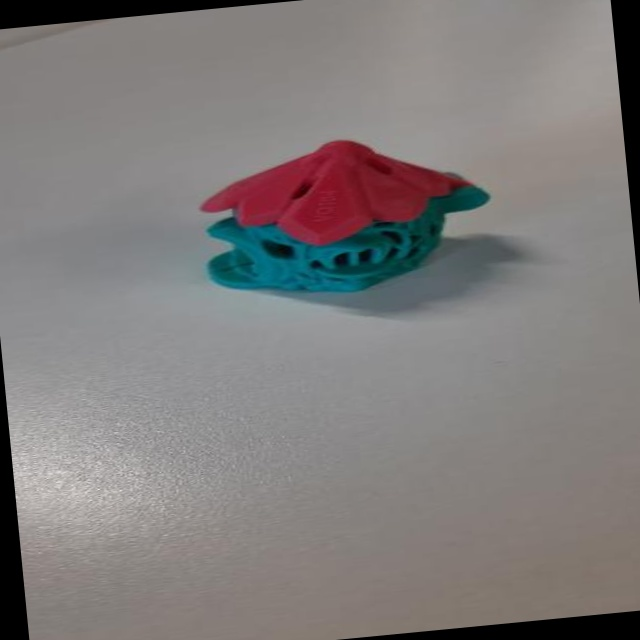House: (171, 104, 537, 356)
